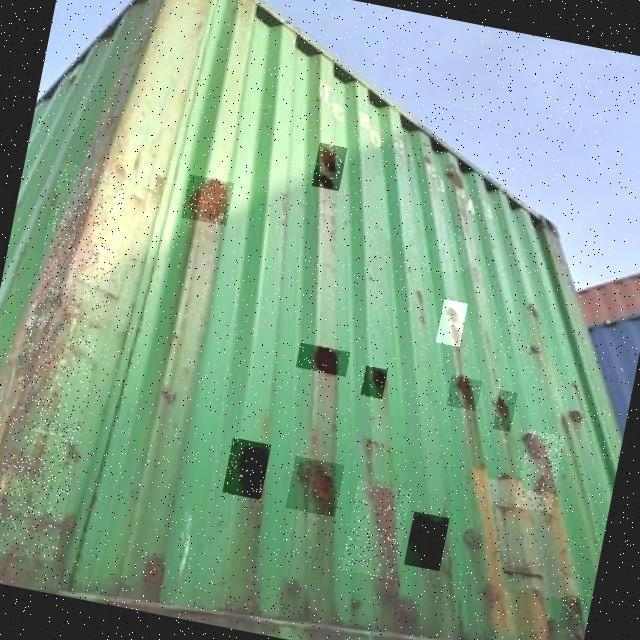rust: (1, 163, 131, 563), (342, 481, 413, 581), (515, 431, 566, 515), (287, 457, 346, 519), (224, 439, 273, 501), (182, 176, 236, 228), (405, 513, 451, 573), (297, 344, 352, 378), (312, 144, 348, 193), (437, 300, 469, 348), (136, 552, 170, 594), (447, 377, 483, 413), (559, 595, 587, 634), (494, 391, 519, 434), (362, 367, 389, 401)
